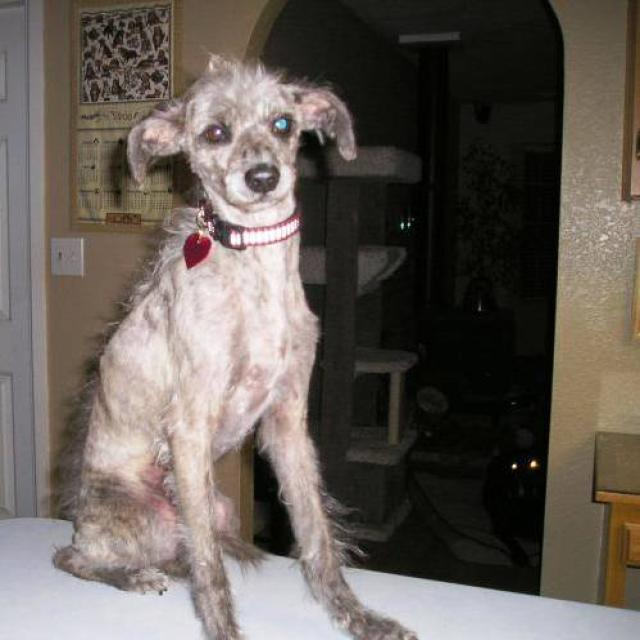dog: (50, 50, 419, 639)
